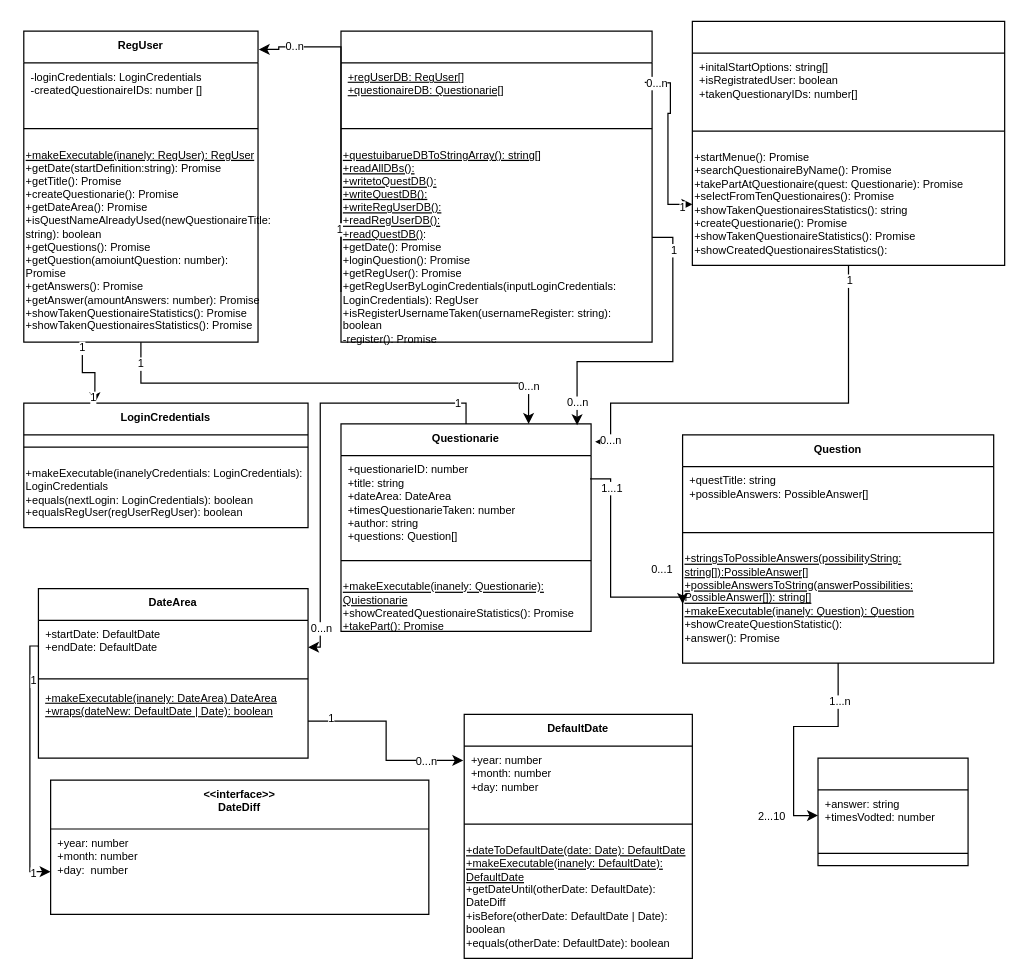
This 1026x980 diagram has some shape labels left out. Here are the shapes that lost their labels. From the top down, the box of each, then its label:
(691, 20, 1005, 265): UnregUser
(340, 30, 652, 342): UserManager
(817, 757, 968, 866): PossibleAnswer
